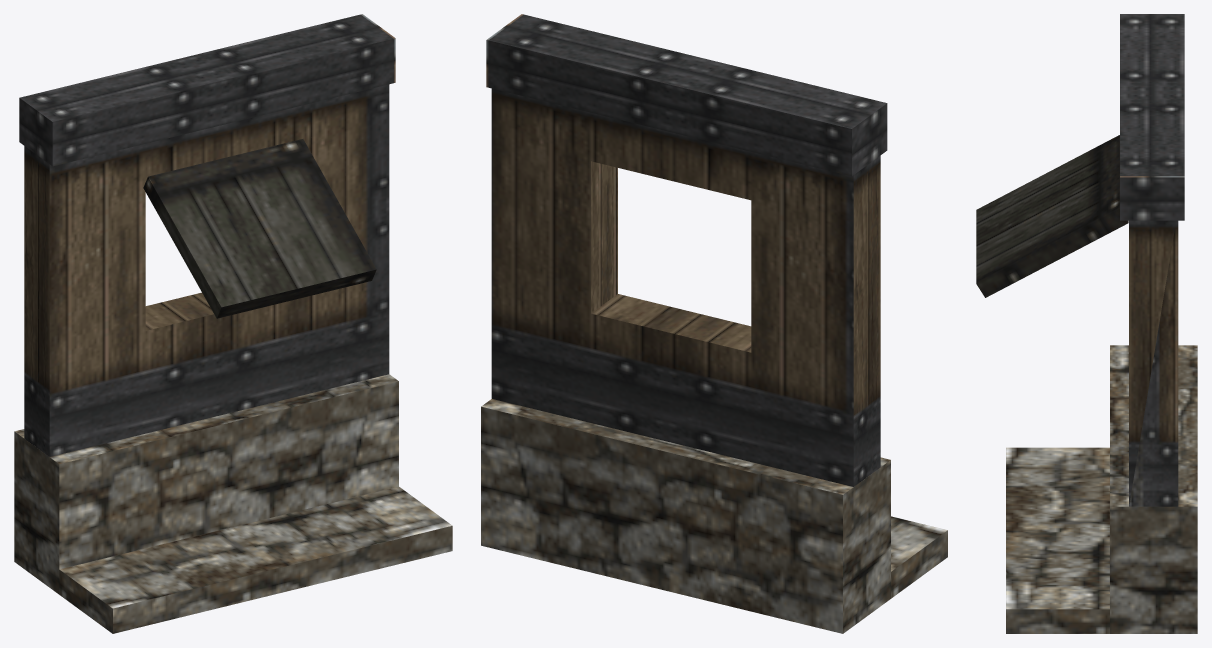
3 views of the same model, side by side, from view 1: azimuth 30°, elevation 25°; view 2: azimuth 150°, elevation 25°; view 3: azimuth 270°, elevation 25° (orthographic). The views are drawn at different scales.
Visible parts, largest first — view 1: a79; view 2: a79; view 3: a79.
Boxes of the visible parts, x1=… form: a79: x1=14, y1=14, x2=452, y2=633; a79: x1=481, y1=14, x2=947, y2=633; a79: x1=976, y1=14, x2=1197, y2=633.
Size of the model in its own units: 513 by 671 by 295.
